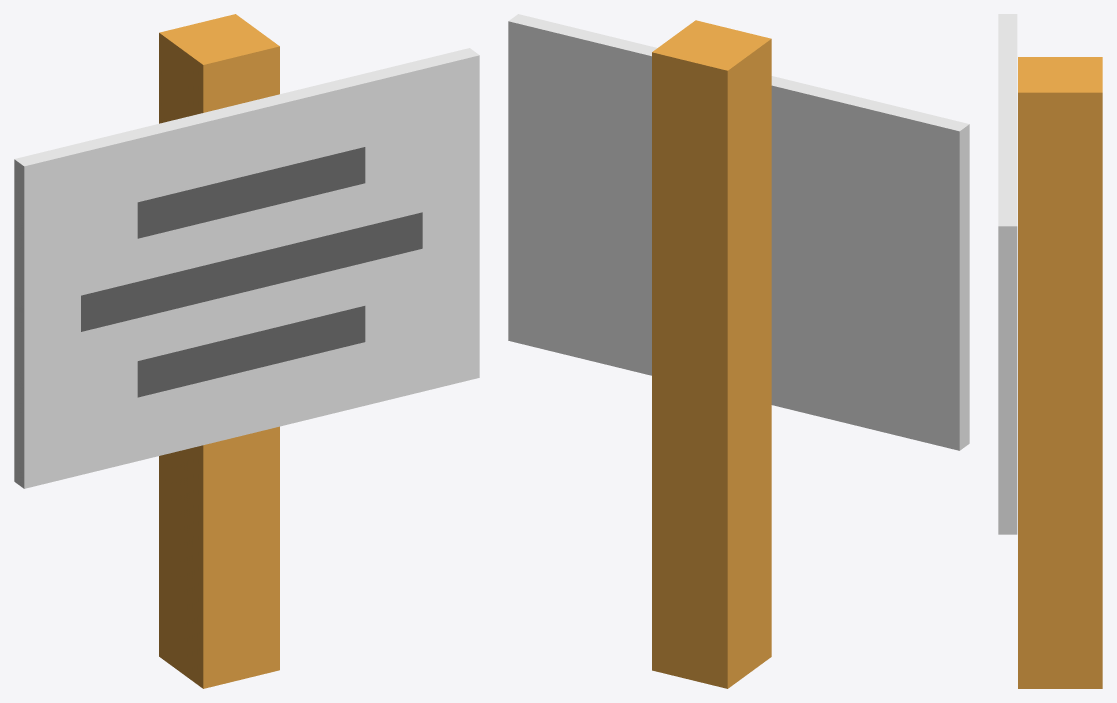
Rendered from placard.glb.
3 renders of one model, left to right at view 1: azimuth 30°, elevation 25°; view 2: azimuth 150°, elevation 25°; view 3: azimuth 270°, elevation 25°, orthographic. The views are drawn at different scales.
Visible parts, largest first — view 1: Cube.6288; view 2: Cube.6288; view 3: Cube.6288.
Boxes of the visible parts, bbox=[...] form: Cube.6288: bbox=[14, 14, 479, 688]; Cube.6288: bbox=[508, 14, 969, 688]; Cube.6288: bbox=[998, 14, 1102, 688].
Size of the model in its own units: 1.67 by 2.19 by 0.3469.
Materials: 1 (1 with a texture image).
